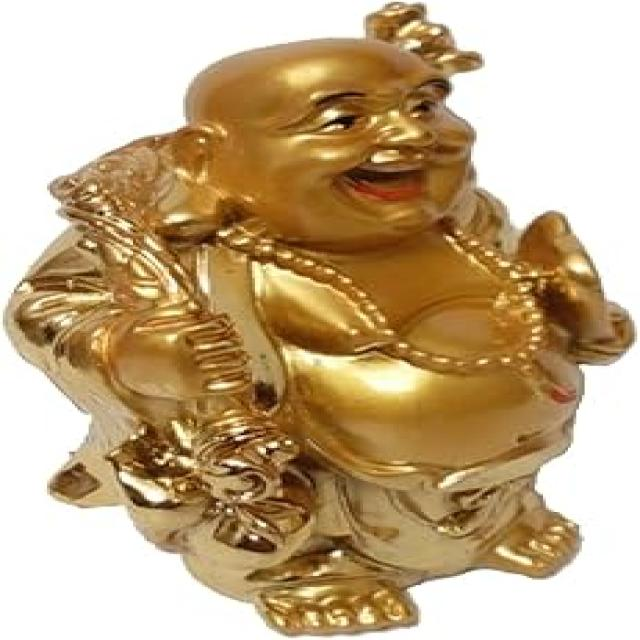Smiling Buddha: (83, 31, 587, 490)
